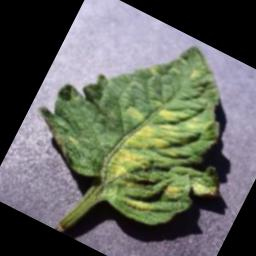Leaf_Mold: (15, 1, 256, 246)
